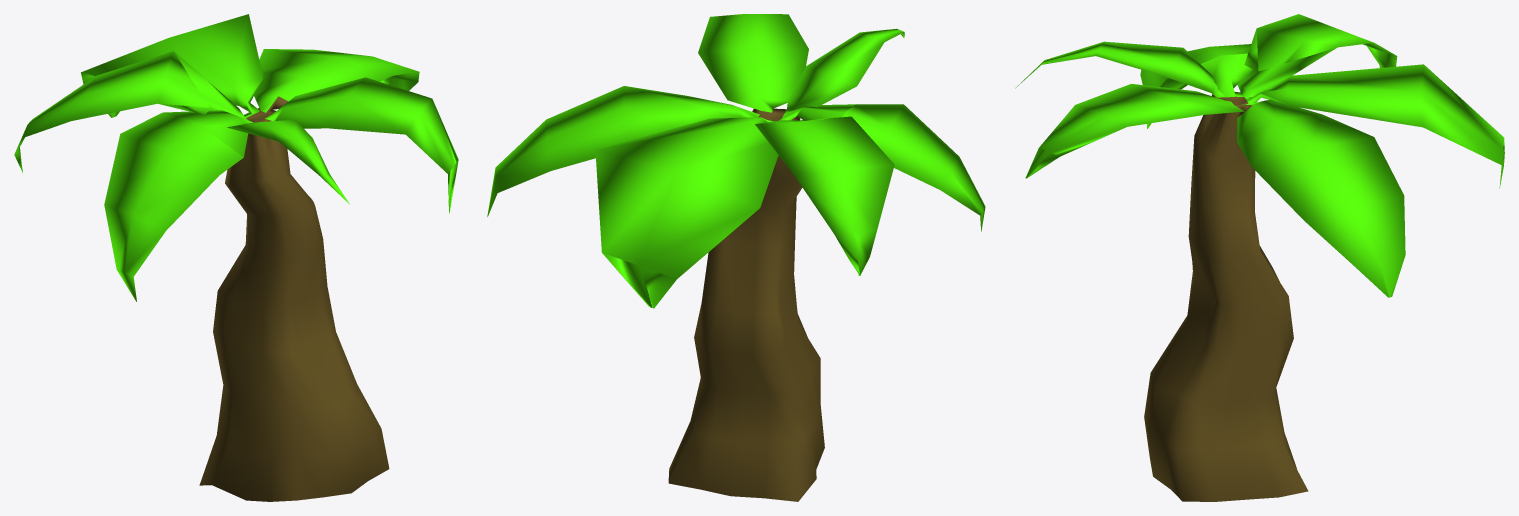
Rendered from palm2.gltf.
3 renders of one model, left to right at view 1: azimuth 30°, elevation 25°; view 2: azimuth 150°, elevation 25°; view 3: azimuth 270°, elevation 25°, orthographic.
Visible parts, largest first — view 1: Cube.001; view 2: Cube.001; view 3: Cube.001.
Boxes of the visible parts, box(x1,y1,x2,y2) form: Cube.001: box(14, 14, 458, 501); Cube.001: box(487, 14, 985, 501); Cube.001: box(1015, 14, 1504, 501).
Size of the model in its own units: 19.08 by 18.69 by 20.73.
